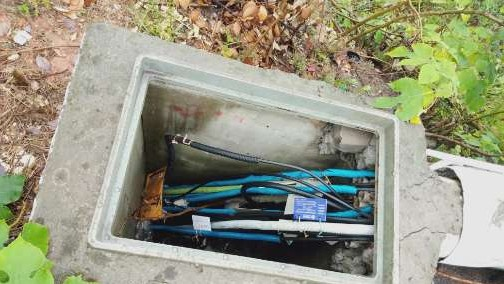lose: (88, 53, 400, 284)
